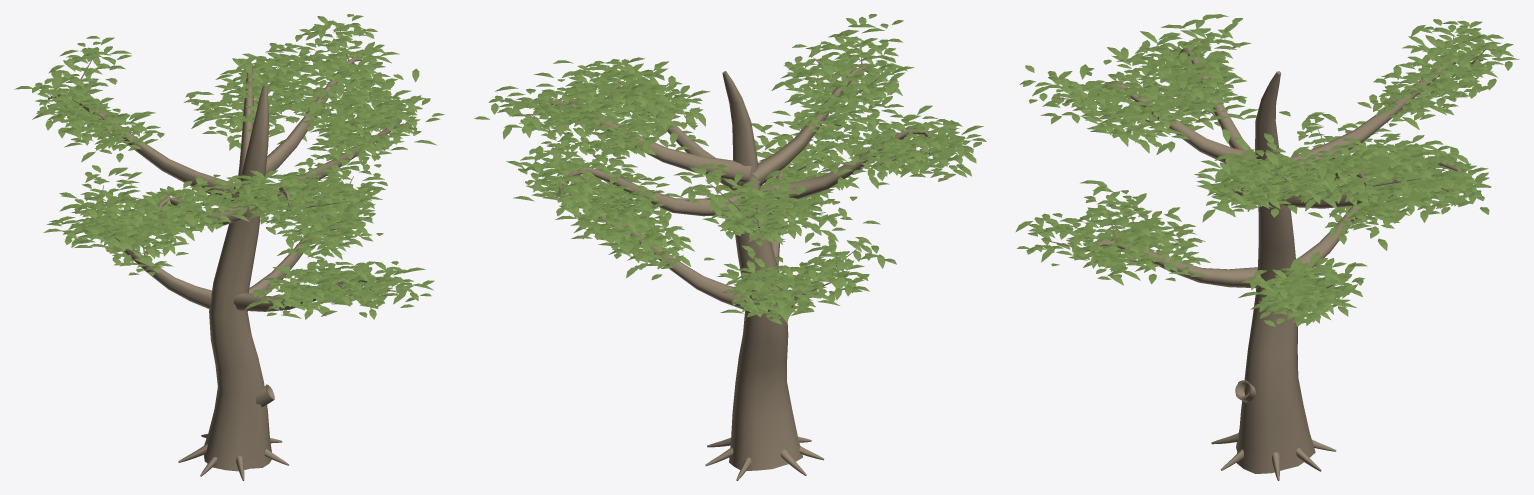
File: hero_lod0.glb
3 views of the same model, side by side, from view 1: azimuth 30°, elevation 25°; view 2: azimuth 150°, elevation 25°; view 3: azimuth 270°, elevation 25° (orthographic). The views are drawn at different scales.
Parts seen in each view (by area): view 1: Leaves, Bark; view 2: Leaves, Bark; view 3: Leaves, Bark.
Boxes of the visible parts, box(x1,y1,x2,y2) form: Leaves: box(14, 14, 444, 319); Bark: box(48, 31, 408, 480); Leaves: box(474, 14, 986, 324); Bark: box(509, 38, 956, 480); Leaves: box(1015, 14, 1519, 326); Bark: box(1041, 34, 1486, 480).
Size of the model in its own units: 13.87 by 12.44 by 14.08.
